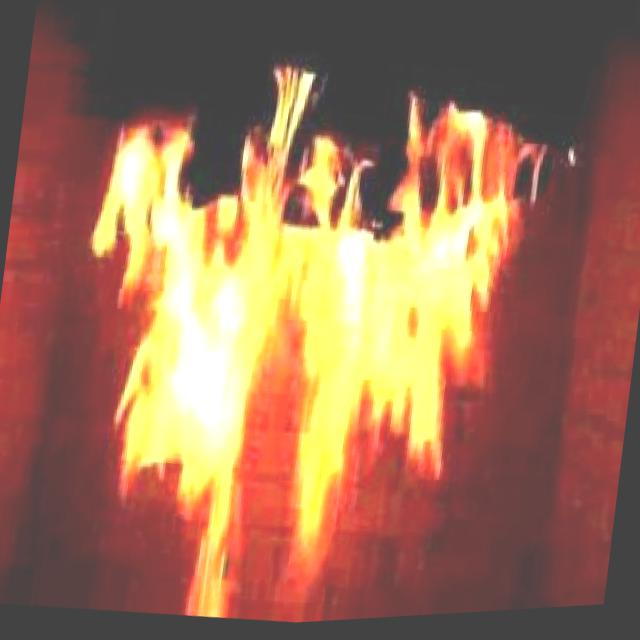Fire: (35, 11, 572, 638)
